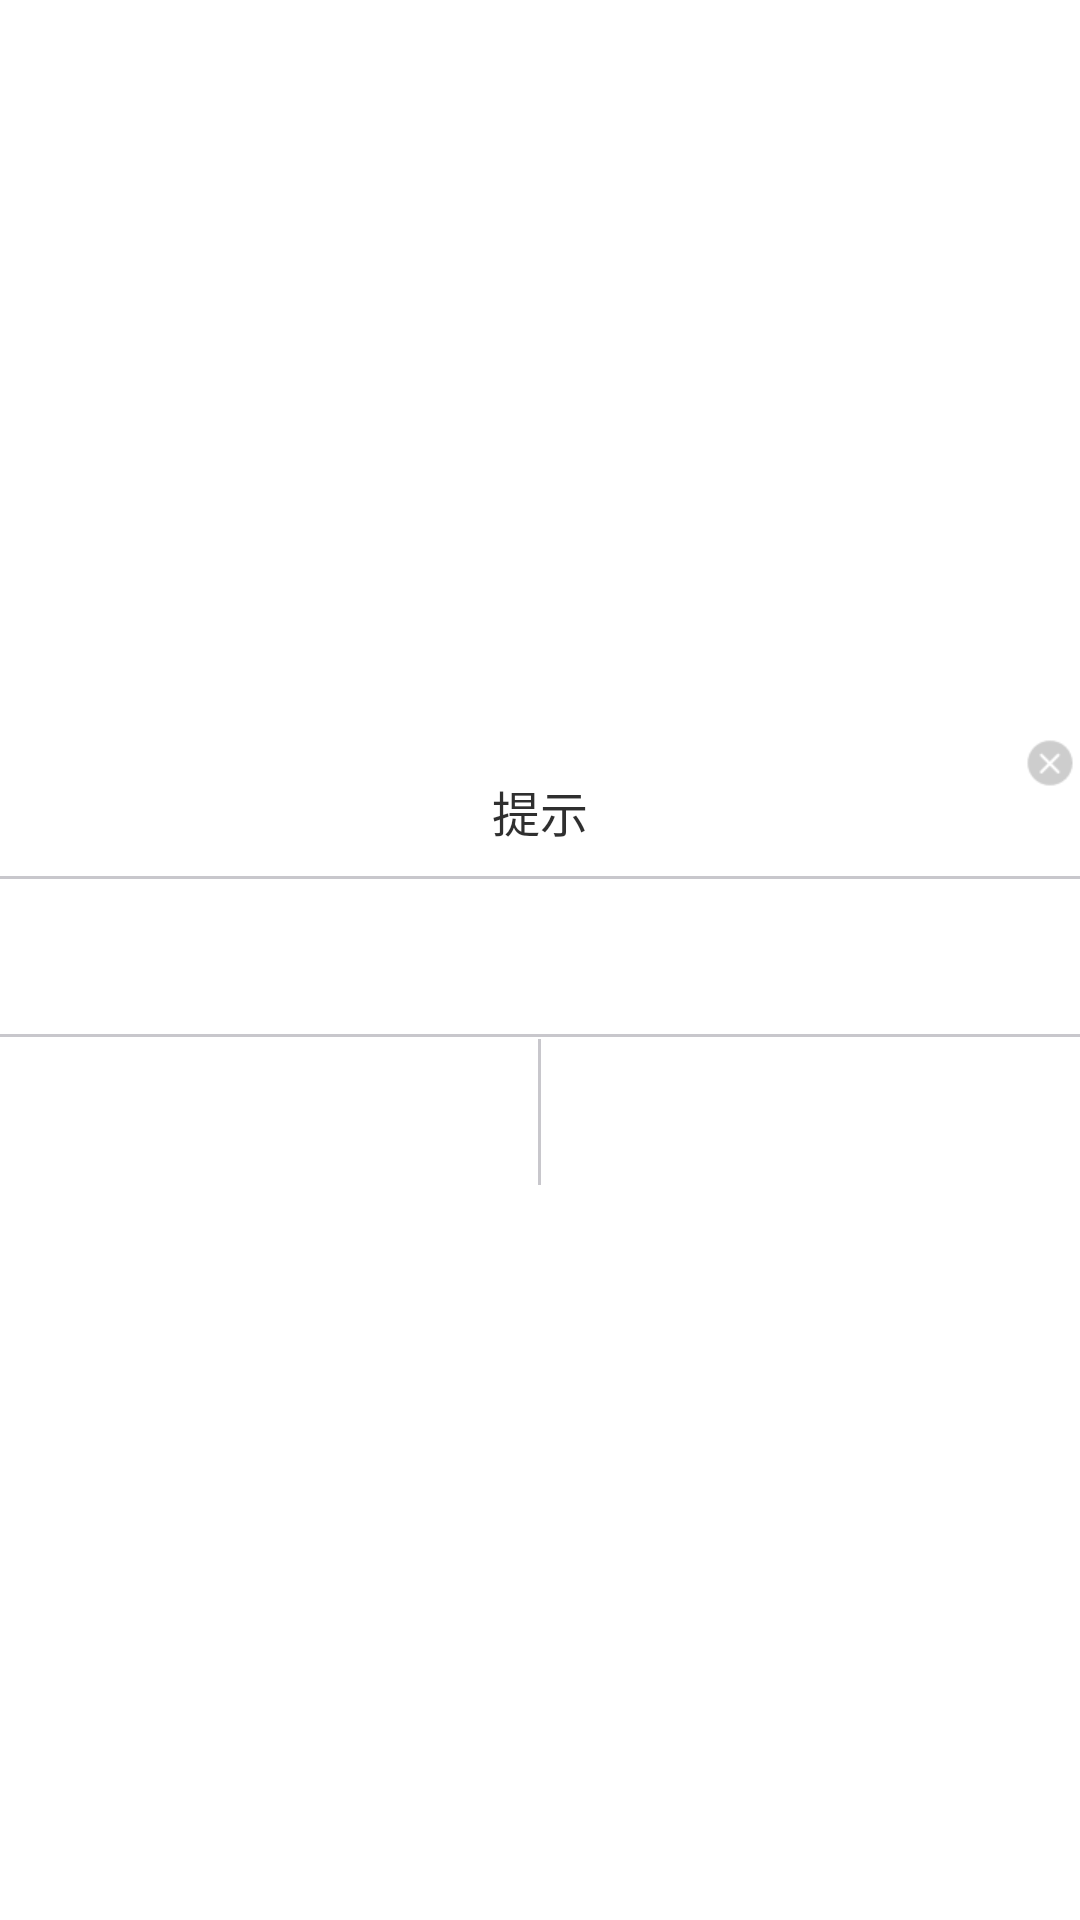

Named icons in this screenshot (1080×1920) and their bounding boxes, (x1, y1, x2, y2):
close: (1028, 741, 1073, 785)
